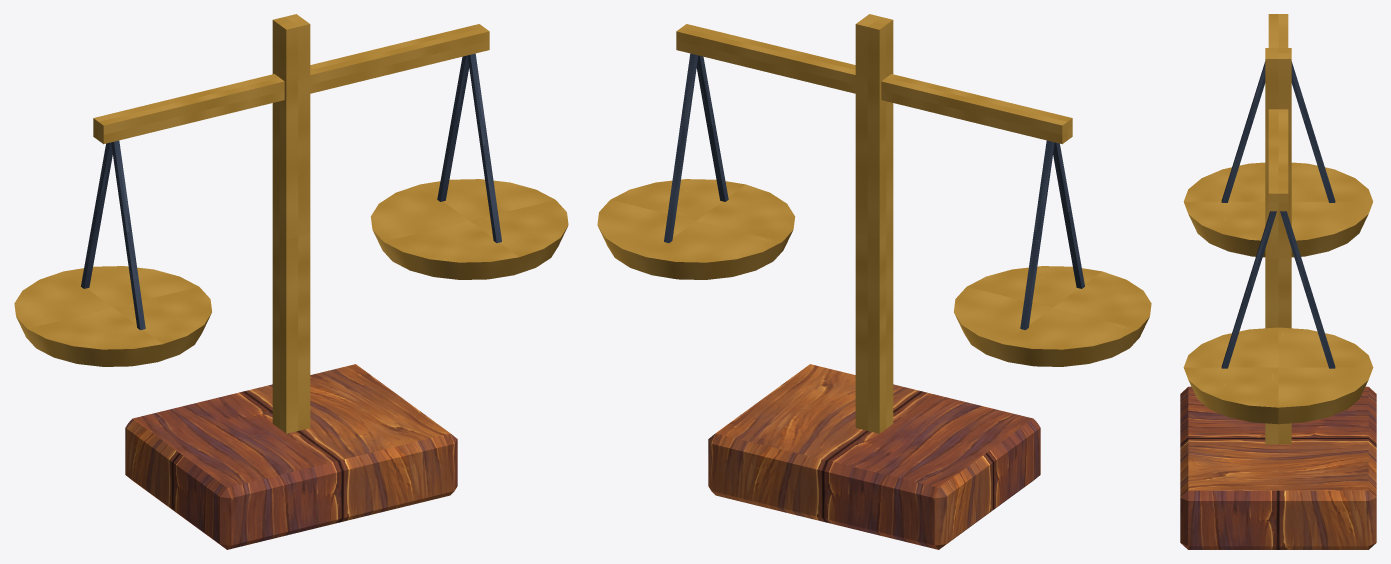
File: Market_Scale.fbx
3 views of the same model, side by side, from view 1: azimuth 30°, elevation 25°; view 2: azimuth 150°, elevation 25°; view 3: azimuth 270°, elevation 25° (orthographic). The views are drawn at different scales.
Visible parts, largest first — view 1: Market_Scale.001; view 2: Market_Scale.001; view 3: Market_Scale.001.
Boxes of the visible parts, x1,y1,x2,y2 form: Market_Scale.001: [14, 14, 568, 549]; Market_Scale.001: [597, 14, 1151, 549]; Market_Scale.001: [1180, 14, 1376, 549].
Bounding box in the file's own units: 178 × 150 × 60.
Materials: 3 (3 with a texture image).
